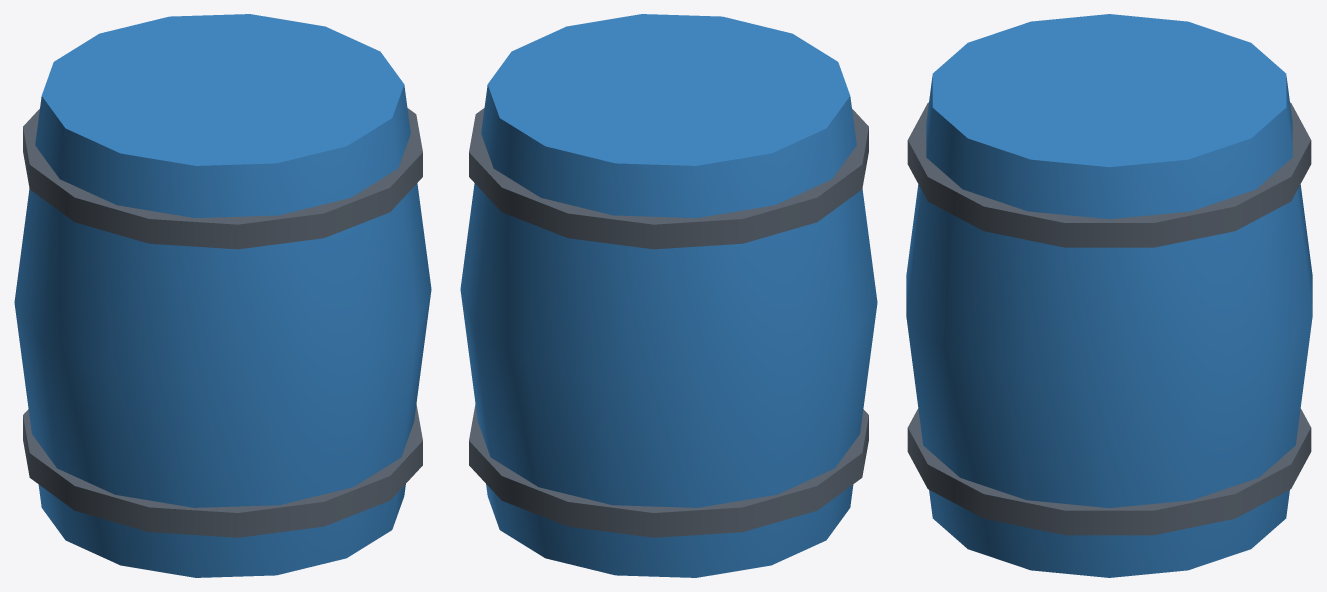
The model's file is barrel.glb.
3 views of the same model, side by side, from view 1: azimuth 30°, elevation 25°; view 2: azimuth 150°, elevation 25°; view 3: azimuth 270°, elevation 25° (orthographic).
Visible parts, largest first — view 1: barrel; view 2: barrel; view 3: barrel.
Part boxes in pixels (x1,y1,x2,y2): barrel: [14, 14, 431, 577]; barrel: [460, 14, 877, 577]; barrel: [906, 14, 1312, 577].
Size of the model in its own units: 0.92 by 1 by 0.8969.
